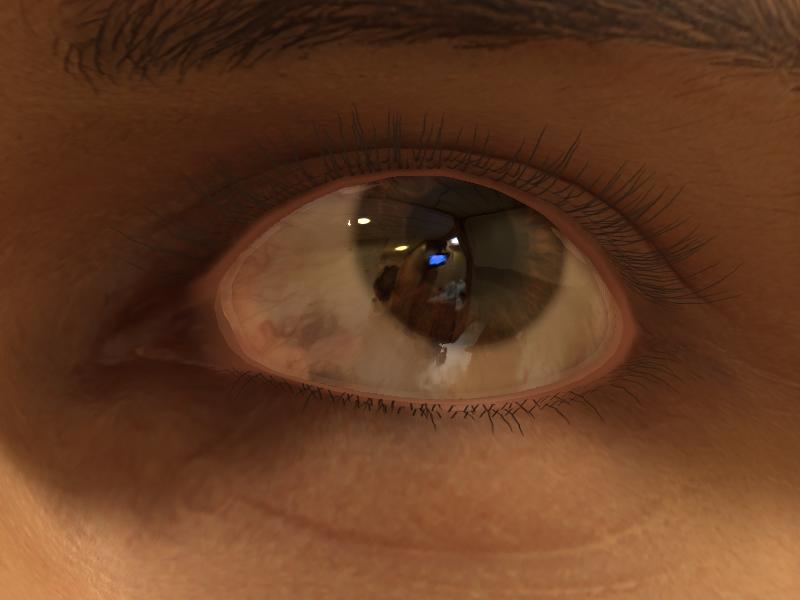eye: (356, 175, 572, 348)
